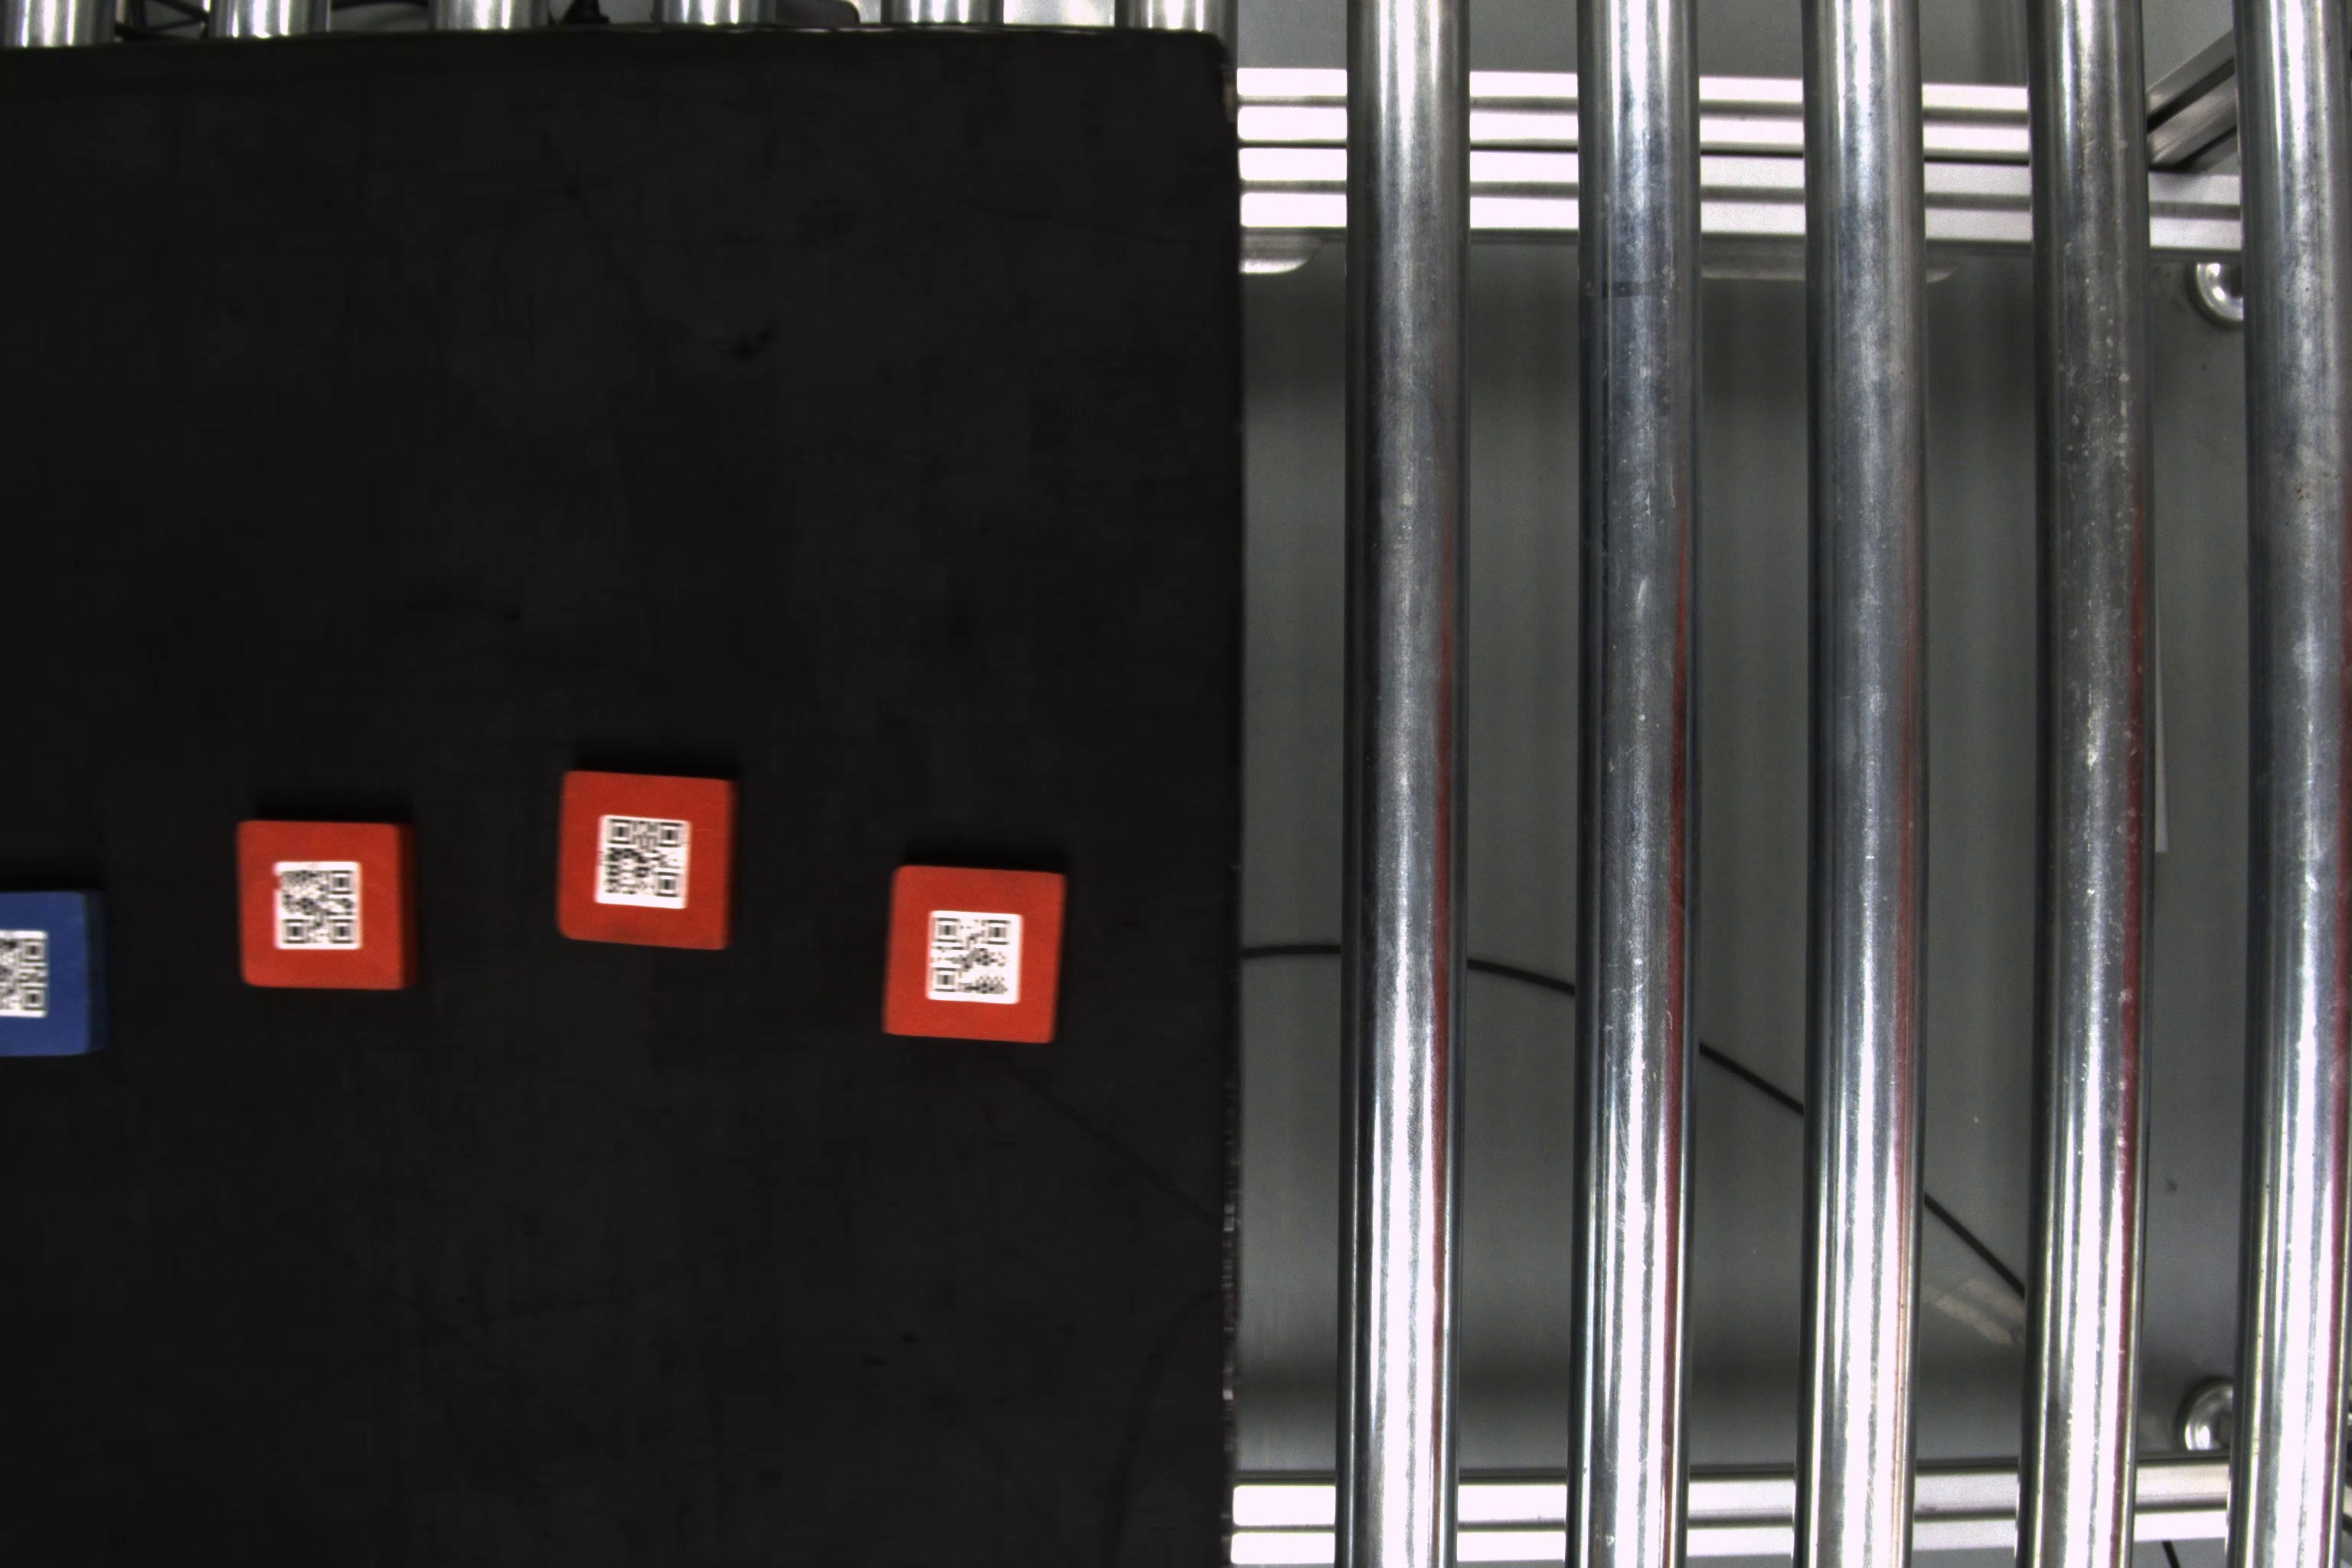wood: (229, 810, 429, 1004), (546, 768, 749, 952), (880, 856, 1076, 1045), (3, 884, 112, 1066)
